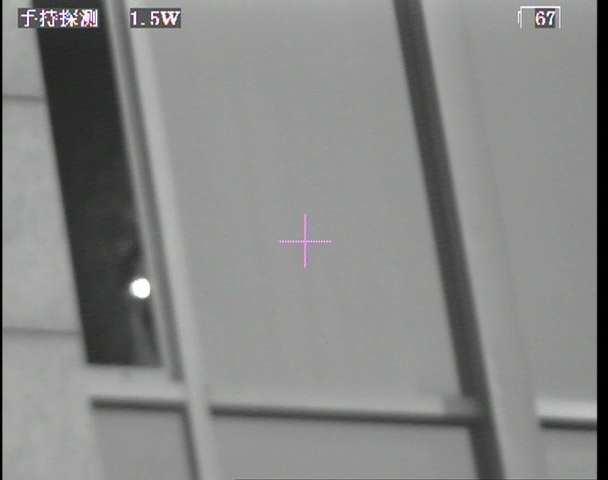my: (128, 274, 152, 301)
